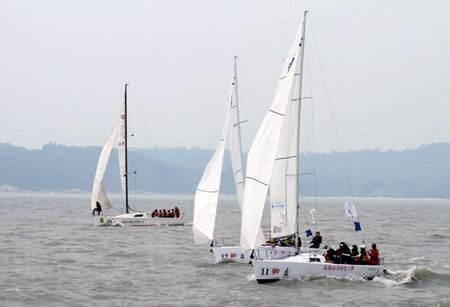fanchuan: (250, 9, 397, 284), (192, 48, 276, 267), (85, 82, 187, 230)
